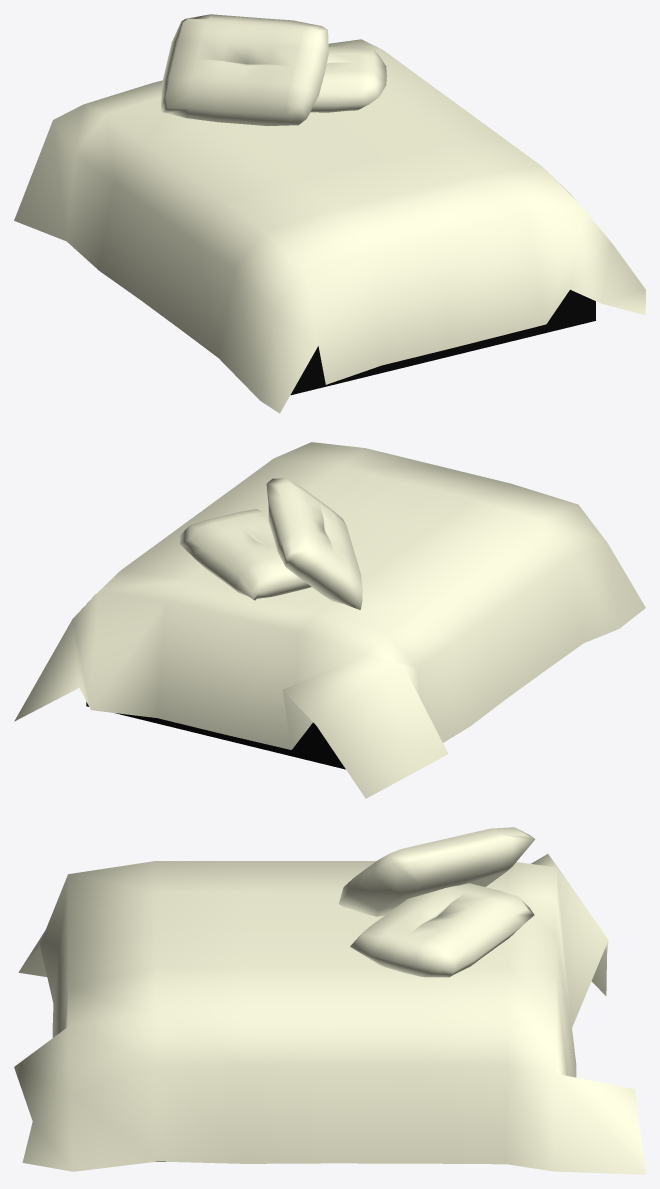
Rendered from bedNPillow.fbx.
3 views of the same model, one above another, from view 1: azimuth 30°, elevation 25°; view 2: azimuth 150°, elevation 25°; view 3: azimuth 270°, elevation 25° (orthographic). The views are drawn at different scales.
Visible parts, largest first — view 1: Box010, Plane004, Plane003; view 2: Box010, Plane004, Plane003; view 3: Box010, Plane003, Plane004.
Part boxes in pixels (left/top/right/bottom): Box010: left=14, top=39, right=645, bottom=413; Plane004: left=161, top=14, right=328, bottom=125; Plane003: left=310, top=47, right=386, bottom=112; Box010: left=14, top=442, right=645, bottom=798; Plane004: left=266, top=478, right=362, bottom=609; Plane003: left=179, top=509, right=311, bottom=600; Box010: left=14, top=854, right=645, bottom=1174; Plane003: left=350, top=883, right=534, bottom=977; Plane004: left=338, top=827, right=535, bottom=916.
Bounding box in the file's own units: 561 × 277 × 662.
